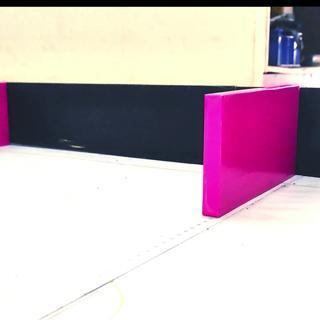xparking: (205, 93, 299, 213)
